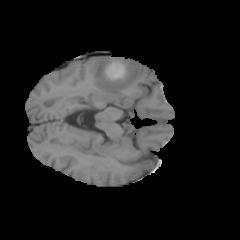glioma: (82, 56, 148, 105)
